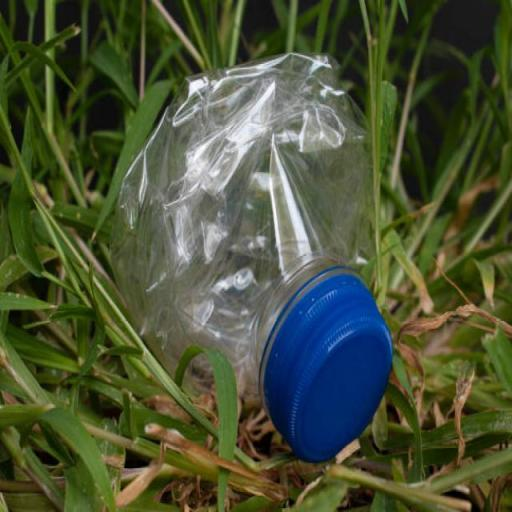bottle: (111, 53, 392, 462)
